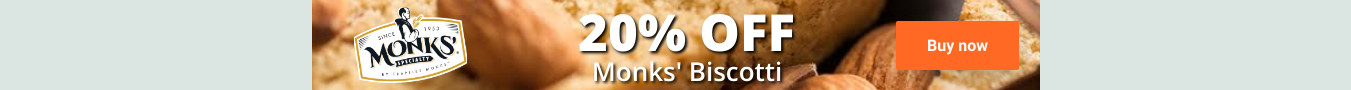fake_button: (885, 13, 1045, 90)
